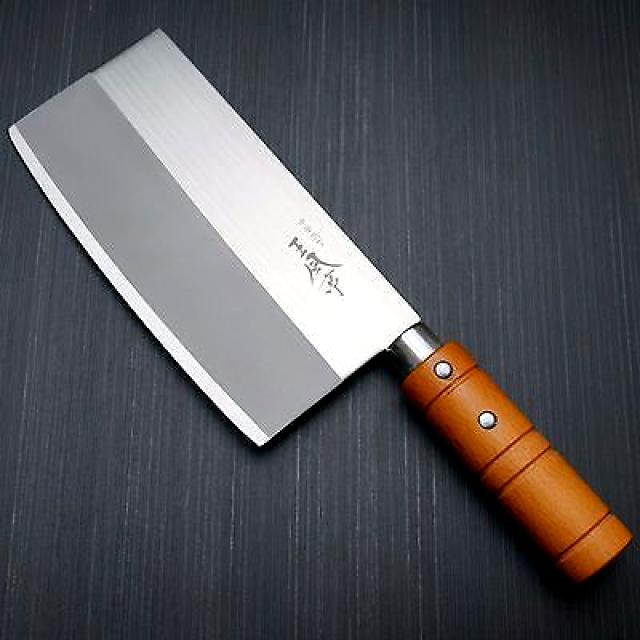cleaver: (37, 34, 631, 580)
